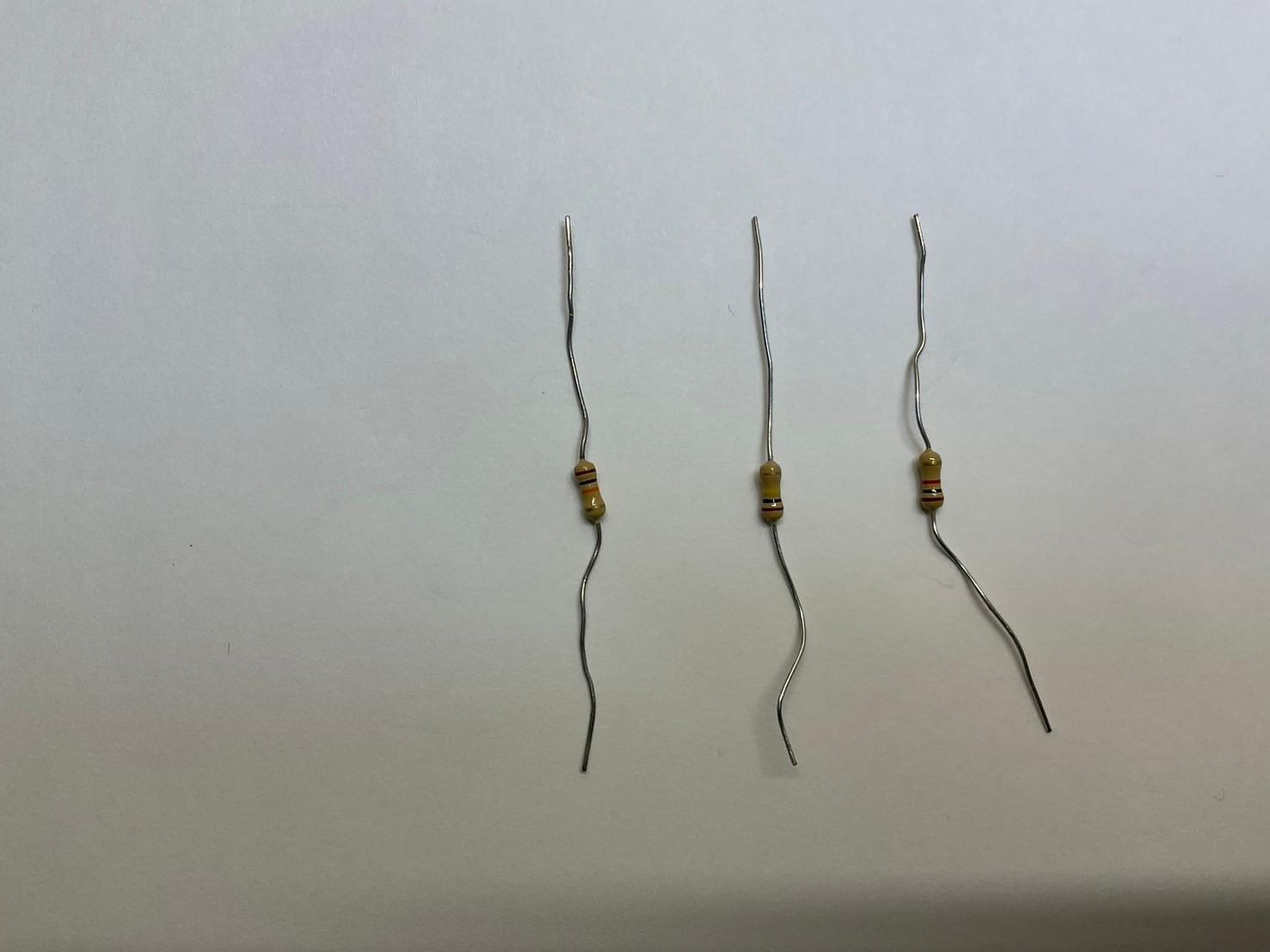resistor: (751, 458, 787, 526), (573, 461, 609, 520), (915, 449, 945, 514)
